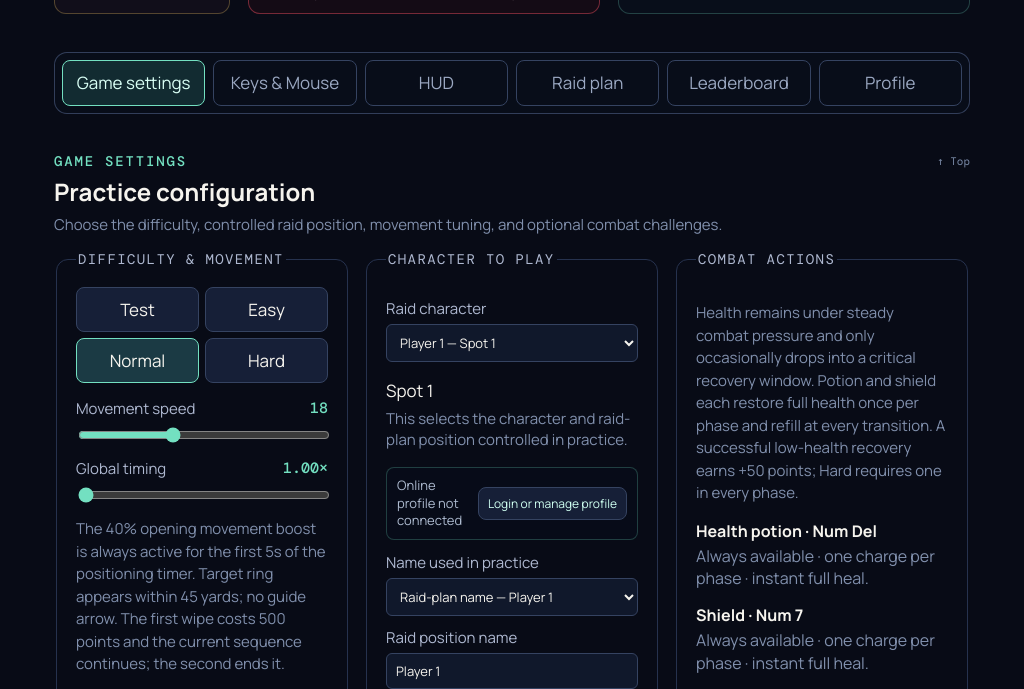
Test: player menu › previews a clearly marked full completion screen without unlocking achievements
(page scrolled)
Expected: the button "preview final screen" is not shown
Click the button "test".
click(138, 310)  # box [76, 287, 199, 332]
(page scrolled)
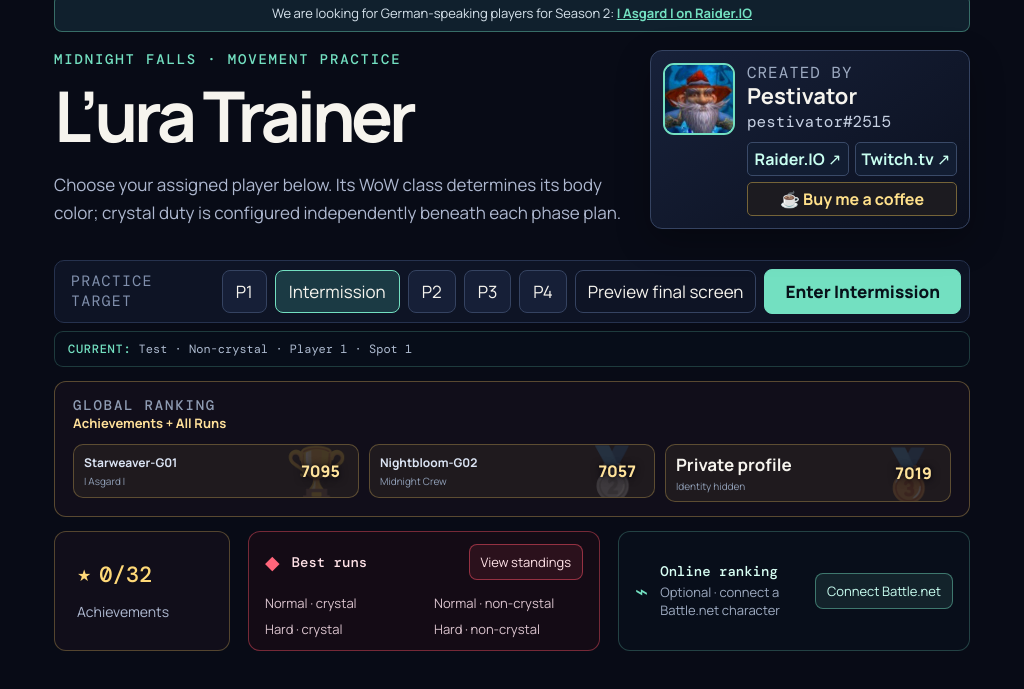
Click the button "Preview final screen".
click(666, 291)  # box [575, 270, 756, 313]
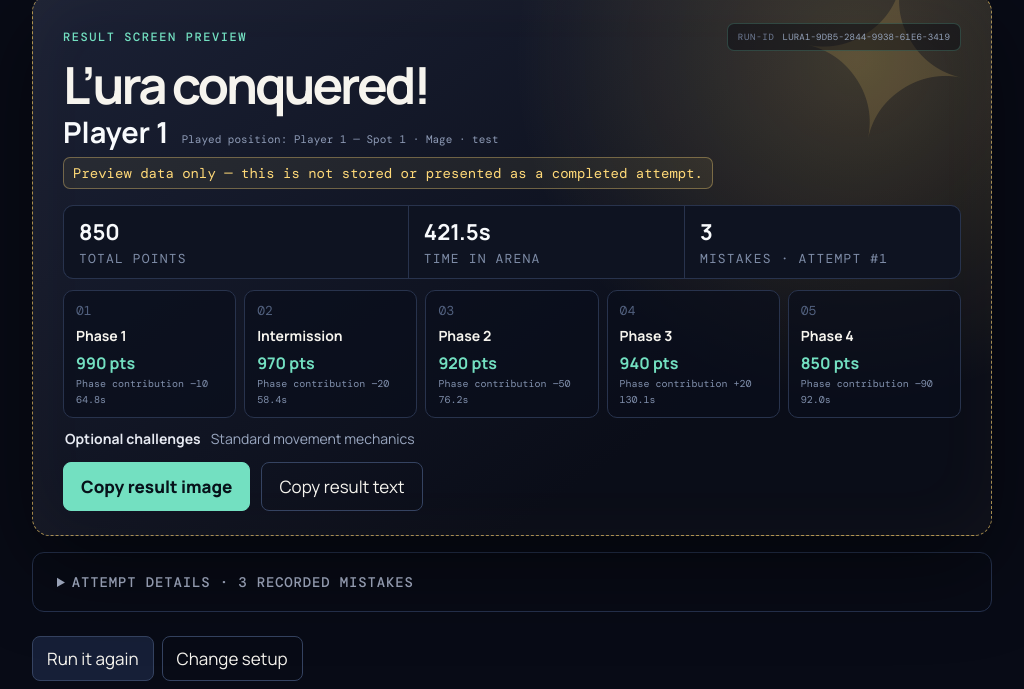
Expected: the text "RESULT SCREEN PREVIEW" is shown, [63, 29, 247, 45]
Expected: the text "Preview data only" is shown, [73, 164, 703, 182]
Expected: the heading "L’ura conquered!" is shown, [63, 49, 429, 119]
